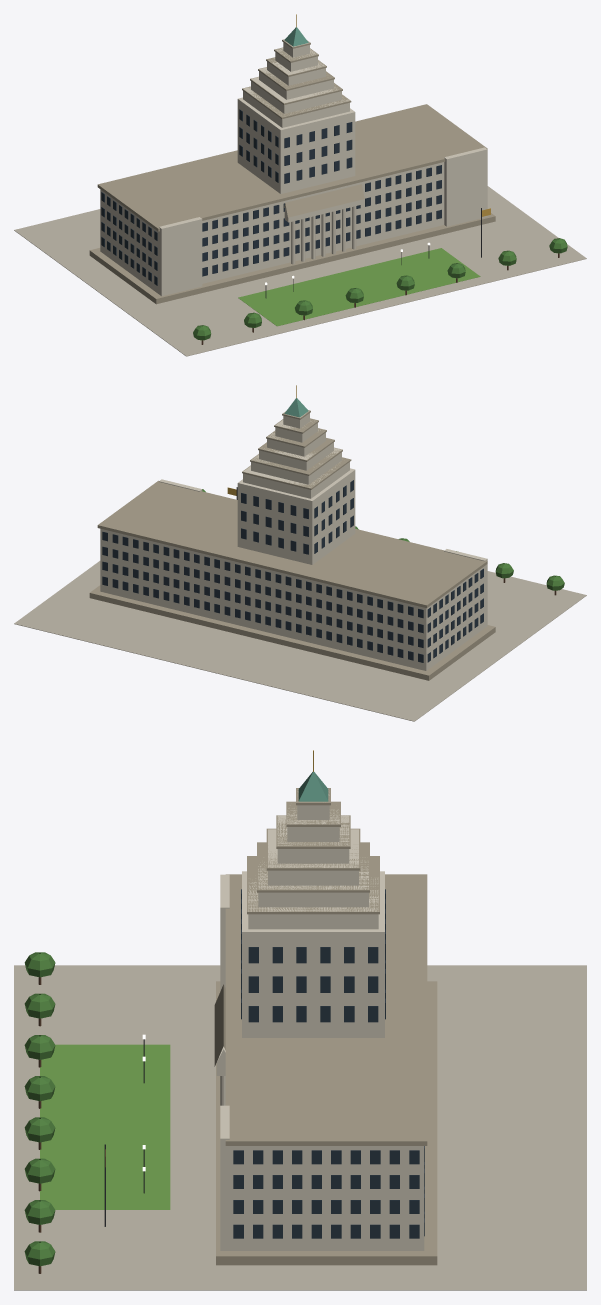
Rendered from kencho.glb.
3 renders of one model, top to bottom at view 1: azimuth 30°, elevation 25°; view 2: azimuth 150°, elevation 25°; view 3: azimuth 270°, elevation 25°, orthographic. The views are drawn at different scales.
Parts seen in each view (by area): view 1: Kencho_static; view 2: Kencho_static; view 3: Kencho_static.
Boxes of the visible parts, x1,y1,x2,y2 form: Kencho_static: (14, 14, 586, 356); Kencho_static: (14, 385, 586, 721); Kencho_static: (14, 750, 586, 1290).
Bounding box in the file's own units: 118 × 64.01 × 88.01.
